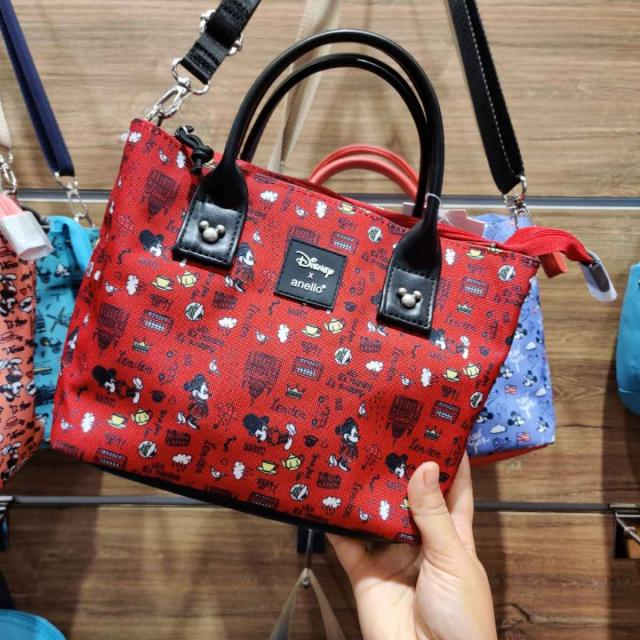Handbag: (47, 114, 555, 549)
